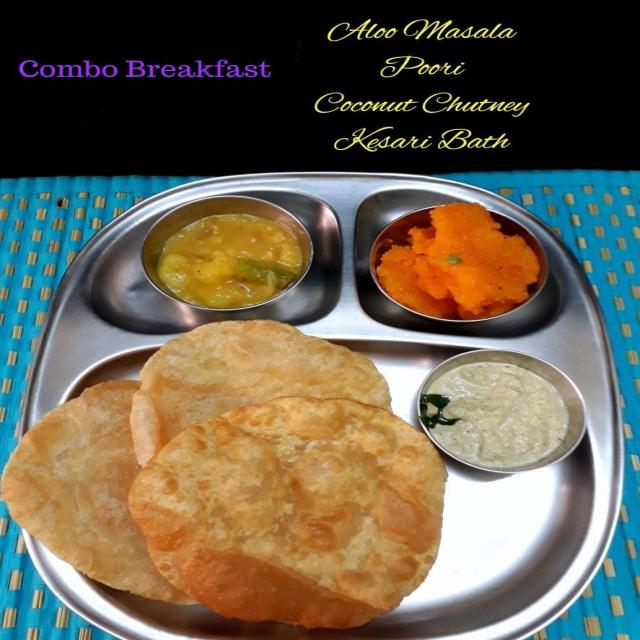poori: (125, 385, 457, 635), (0, 365, 190, 617), (128, 307, 400, 461)
